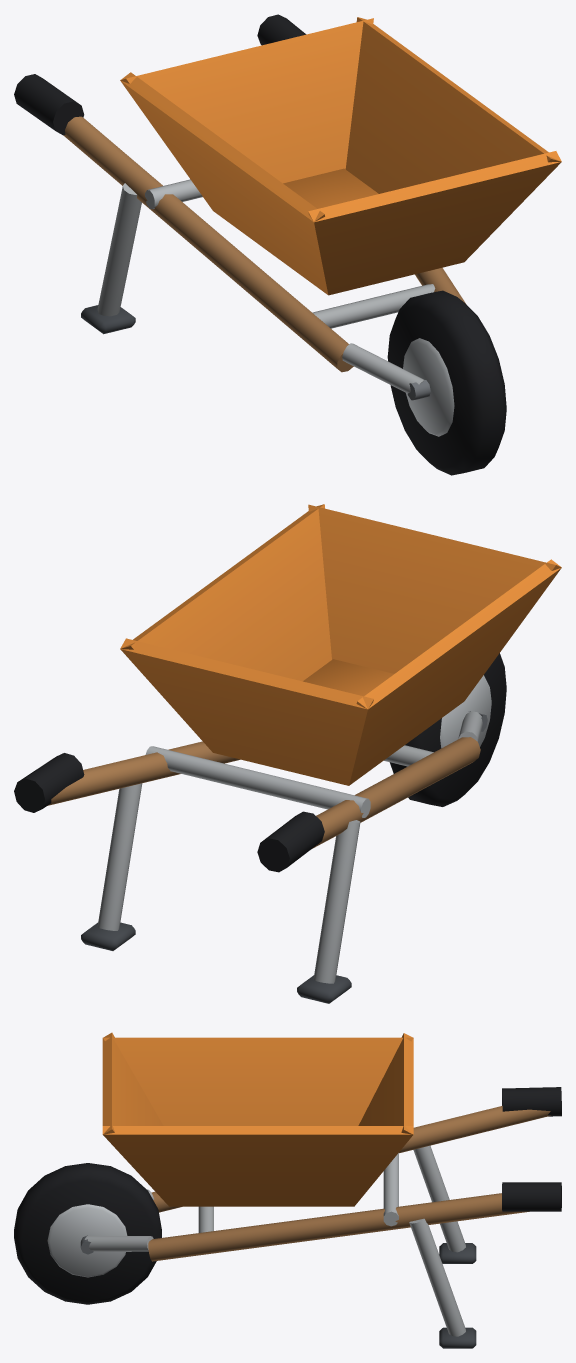
The model's file is SM_Wheelbarrow_01.glb.
The picture shows the model from 3 angles, top to bottom: view 1: azimuth 30°, elevation 25°; view 2: azimuth 150°, elevation 25°; view 3: azimuth 270°, elevation 25°; orthographic projection. The views are drawn at different scales.
Visible parts, largest first — view 1: SM_Wheelbarrow_01; view 2: SM_Wheelbarrow_01; view 3: SM_Wheelbarrow_01.
Part boxes in pixels (left/top/right/bottom): SM_Wheelbarrow_01: left=14, top=14, right=561, bottom=475; SM_Wheelbarrow_01: left=14, top=504, right=561, bottom=1003; SM_Wheelbarrow_01: left=14, top=1032, right=561, bottom=1348.
Size of the model in its own units: 0.6899 by 0.6562 by 1.48.
Materials: 1 (1 with a texture image).
